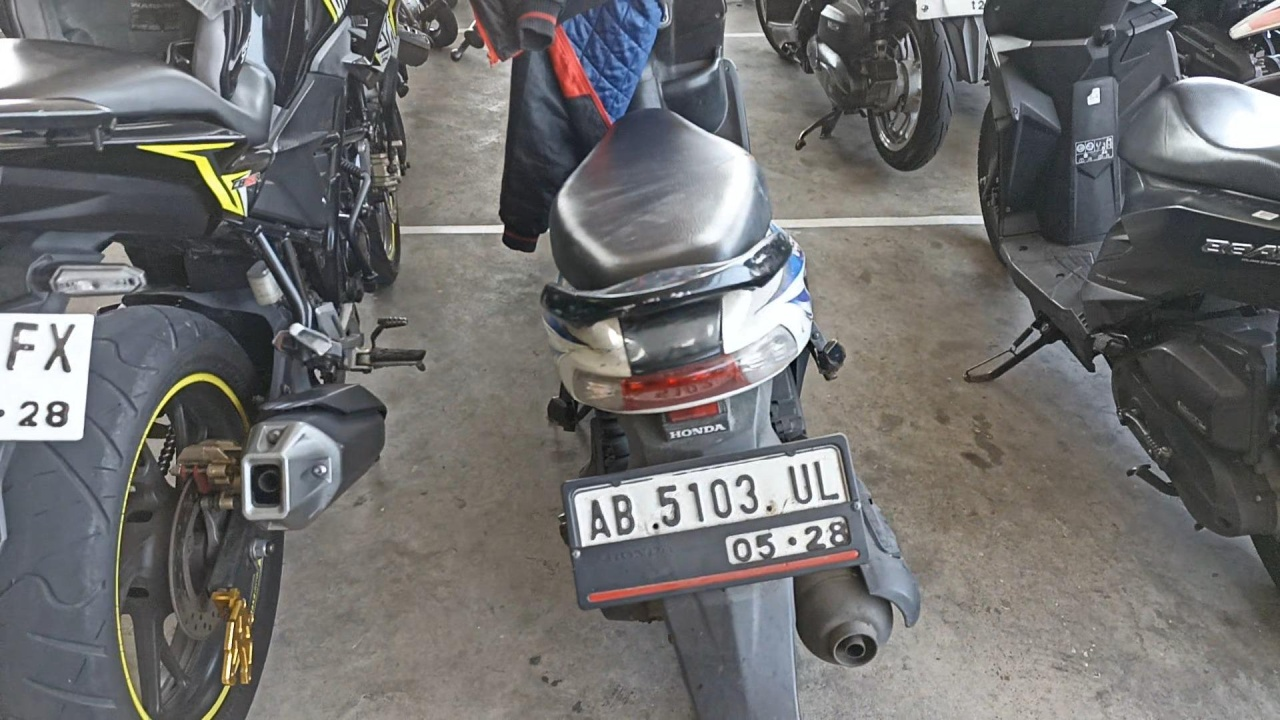plate: (565, 438, 866, 609)
